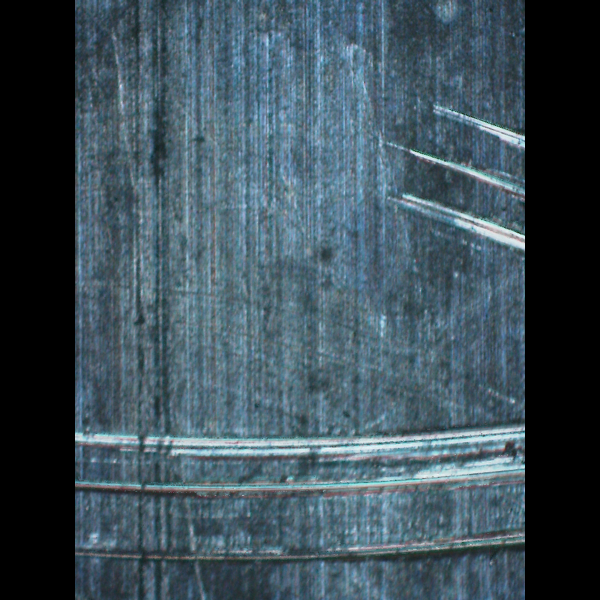d: (75, 407, 522, 570), (372, 71, 524, 270)
